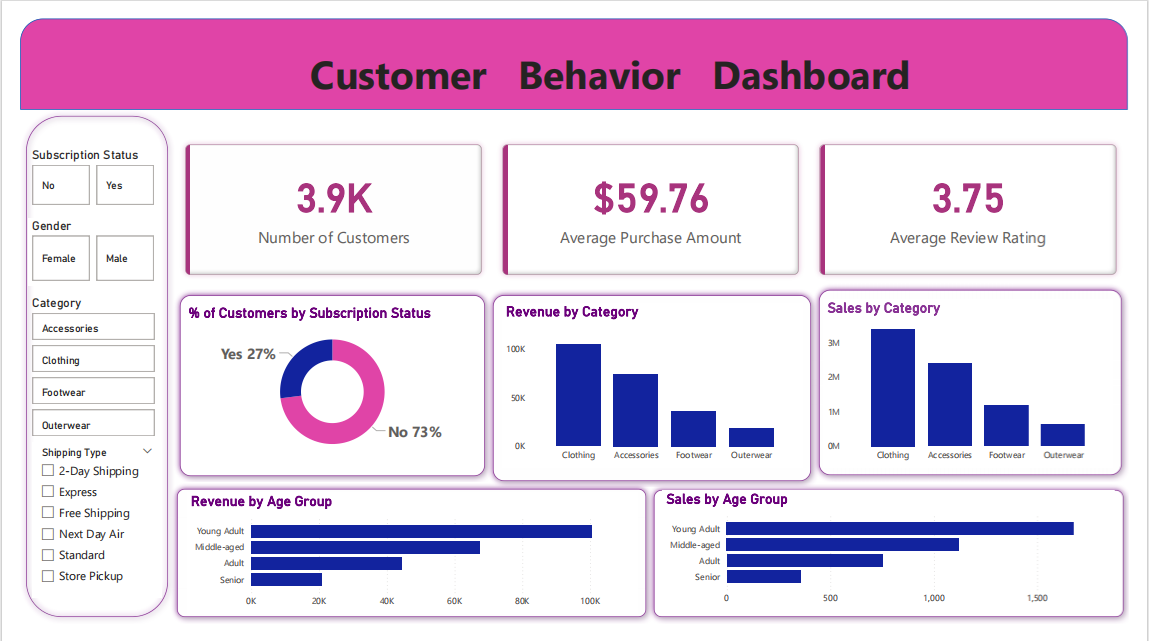

The page's visual inventory and layout, read from the dashboard file:
{"tool":"powerbi","page":{"name":"Page 1","canvas":[1520,830],"ordinal":0},"visuals":[{"type":"cardVisual","fields":{"Data":["public customer.Number of customers","public customer.Average Purchase Amount","public customer.Average Review Rating"]},"box":[210.6,156.9,1308.6,210.6],"z":0},{"type":"shape","box":[0,0,1519.3,125.5],"z":1000},{"type":"shape","box":[210.2,370.8,434.5,264.5],"z":3000},{"type":"shape","box":[640,370.8,453.4,271.6],"z":4000},{"type":"shape","box":[1086.8,363,432.5,271.1],"z":5000},{"type":"donutChart","title":"% of  Customers by Subscription Status","fields":{"Category":["public customer.subscription_status"],"Y":["CountNonNull(public customer.customer_id)"]},"box":[226.3,392.1,403.3,217.4],"z":6000},{"type":"clusteredColumnChart","title":"Revenue by Category","fields":{"Category":["public customer.category"],"Y":["Sum(public customer.purchase_amount)"]},"box":[661.2,389.6,410.9,226.7],"z":7000},{"type":"clusteredColumnChart","title":"Sales by Category","fields":{"Category":["public customer.category"],"Y":["Sum(public customer.customer_id)"]},"box":[1102.5,385.4,396.6,230.8],"z":8000},{"type":"advancedSlicerVisual","fields":{"Values":["public customer.subscription_status"]},"box":[11.8,177.1,177.1,85],"z":9000},{"type":"advancedSlicerVisual","fields":{"Values":["public customer.category"]},"box":[11.2,368.5,177.7,215.1],"z":10000},{"type":"shape","box":[0,127.2,211.4,703.3],"z":11000},{"type":"advancedSlicerVisual","fields":{"Values":["public customer.gender"]},"box":[11.8,273.9,177.1,92.1],"z":12000},{"type":"shape","box":[859.6,637.6,661.2,191.3],"z":13000},{"type":"clusteredBarChart","title":"Revenue by Age Group","fields":{"Category":["public customer.Age Category Clean"],"Y":["Sum(public customer.purchase_amount)"]},"box":[228.6,649.8,618.5,165.8],"z":14000},{"type":"clusteredBarChart","title":"Sales by Age Group","fields":{"Category":["public customer.Age Category Clean"],"Y":["CountNonNull(public customer.customer_id)"]},"box":[880.8,647.1,618.7,165.3],"z":15000},{"type":"slicer","fields":{"Values":["public customer.shipping_type"]},"box":[16.8,583.6,168.3,211.4],"z":16000},{"type":"shape","box":[206.2,636.4,661,192.7],"z":17000},{"type":"clusteredBarChart","title":"Revenue by Age Group","fields":{"Category":["public customer.Age Category Clean"],"Y":["Sum(public customer.purchase_amount)"]},"box":[226.3,649,619.1,166.5],"z":18000},{"type":"textbox","box":[11.2,33.6,1490.1,91.9],"z":19000}]}

Visuals, with their boxes in screenshot pixels (x1, y1, x2, y2), scaled from the page's 1520x830 canvas onto the 1149x641 screenshot:
cardVisual - public customer.Number of customers x public customer.Average Purchase Amount: {"x1": 159, "y1": 121, "x2": 1148, "y2": 284}
shape: {"x1": 0, "y1": 0, "x2": 1148, "y2": 97}
shape: {"x1": 159, "y1": 286, "x2": 487, "y2": 491}
shape: {"x1": 484, "y1": 286, "x2": 827, "y2": 496}
shape: {"x1": 822, "y1": 280, "x2": 1148, "y2": 490}
"% of  Customers by Subscription Status" donutChart: {"x1": 171, "y1": 303, "x2": 476, "y2": 471}
"Revenue by Category" clusteredColumnChart: {"x1": 500, "y1": 301, "x2": 810, "y2": 476}
"Sales by Category" clusteredColumnChart: {"x1": 833, "y1": 298, "x2": 1133, "y2": 476}
advancedSlicerVisual - public customer.subscription_status: {"x1": 9, "y1": 137, "x2": 143, "y2": 202}
advancedSlicerVisual - public customer.category: {"x1": 8, "y1": 285, "x2": 143, "y2": 451}
shape: {"x1": 0, "y1": 98, "x2": 160, "y2": 640}
advancedSlicerVisual - public customer.gender: {"x1": 9, "y1": 212, "x2": 143, "y2": 283}
shape: {"x1": 650, "y1": 492, "x2": 1148, "y2": 640}
"Revenue by Age Group" clusteredBarChart: {"x1": 173, "y1": 502, "x2": 640, "y2": 630}
"Sales by Age Group" clusteredBarChart: {"x1": 666, "y1": 500, "x2": 1134, "y2": 627}
slicer - public customer.shipping_type: {"x1": 13, "y1": 451, "x2": 140, "y2": 614}
shape: {"x1": 156, "y1": 491, "x2": 656, "y2": 640}
"Revenue by Age Group" clusteredBarChart: {"x1": 171, "y1": 501, "x2": 639, "y2": 630}
textbox: {"x1": 8, "y1": 26, "x2": 1135, "y2": 97}
